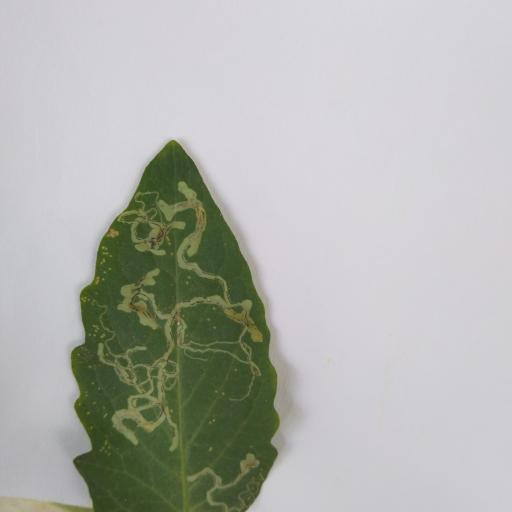disease_tomato: (70, 138, 284, 507)
